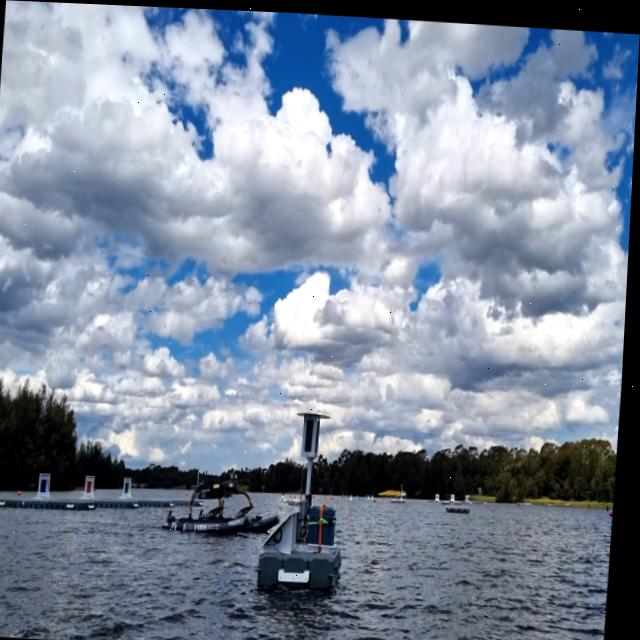led: (307, 413, 320, 452)
